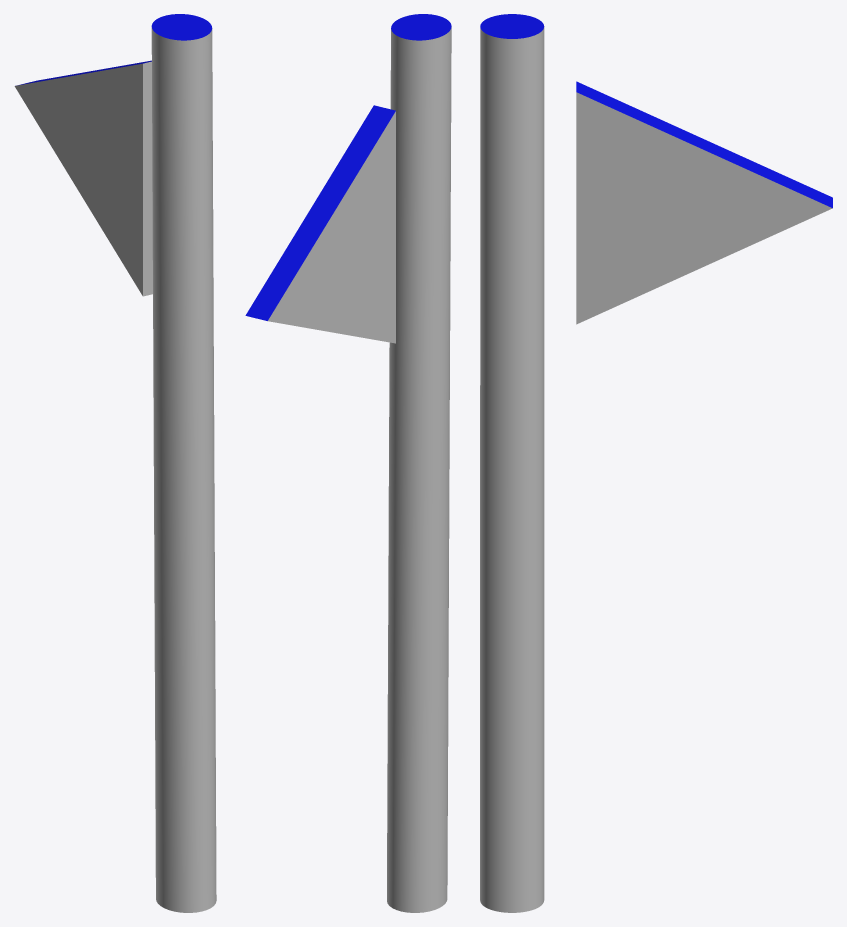
Rendered from flag.fbx.
The picture shows the model from 3 angles, left to right: view 1: azimuth 30°, elevation 25°; view 2: azimuth 150°, elevation 25°; view 3: azimuth 270°, elevation 25°; orthographic projection.
Visible parts, largest first — view 1: FlagPost, Flag; view 2: FlagPost, Flag; view 3: FlagPost, Flag.
Part boxes in pixels (x1,y1,x2,y2): FlagPost: (151, 14, 216, 912); Flag: (14, 60, 152, 296); FlagPost: (387, 14, 451, 912); Flag: (245, 105, 395, 343); FlagPost: (480, 14, 544, 912); Flag: (576, 81, 832, 324).
Size of the model in its own units: 0.05 by 0.75 by 0.275.
